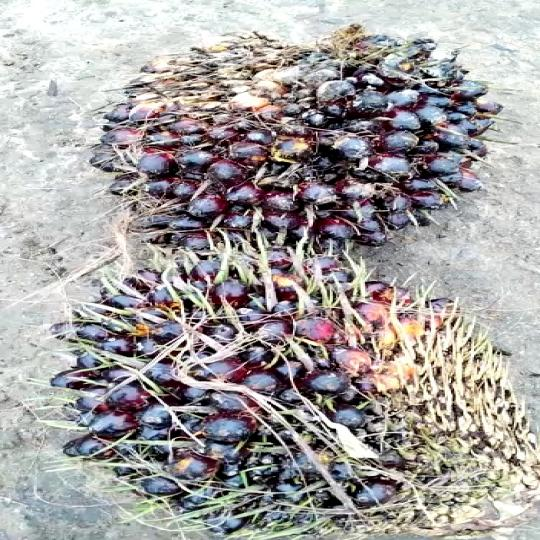kurang masak: (31, 258, 540, 537), (99, 21, 463, 252)
